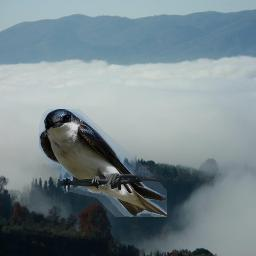Swallow: (39, 109, 167, 217)
